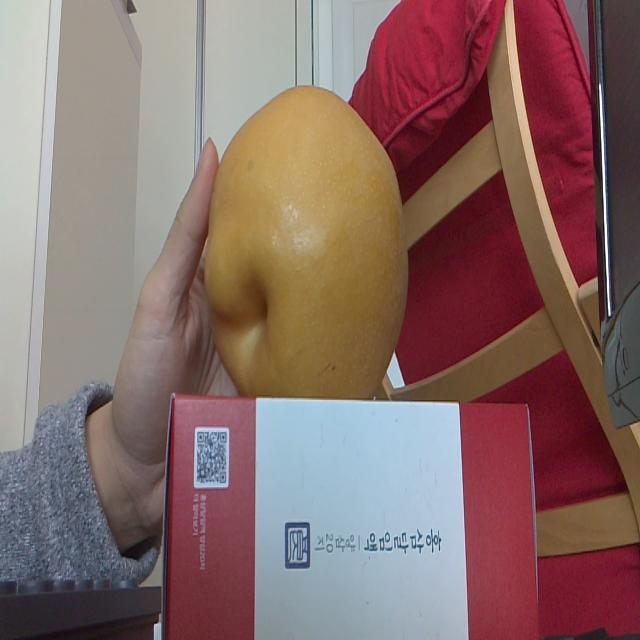pear: (202, 82, 410, 395)
